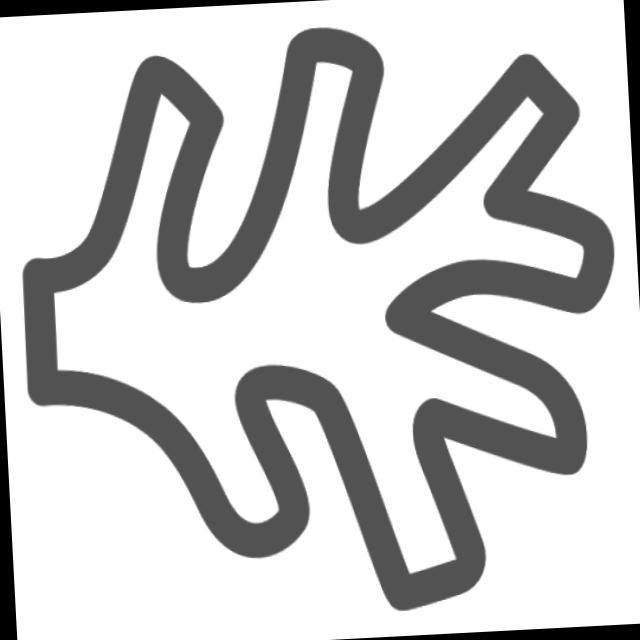coral: (2, 3, 640, 635)
